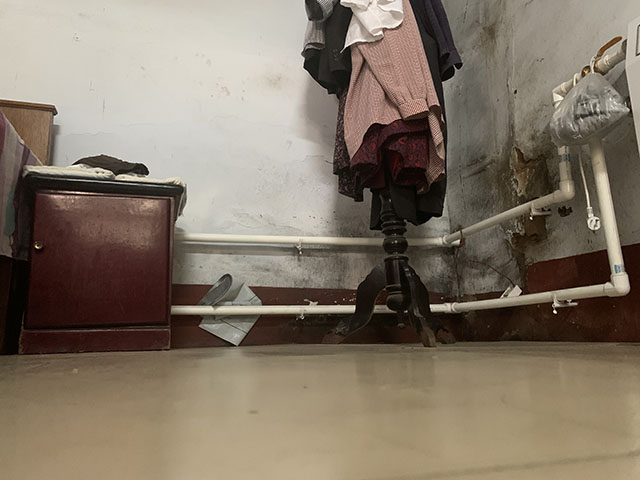cabinet: (17, 170, 185, 356)
